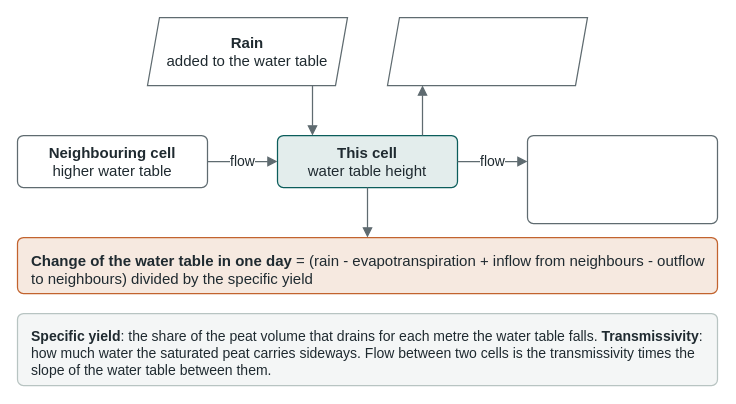
Image size: 736x404. Some labels were removed from this diagram. Here are the shapes that lost their labels. From the top down, the centre of each, then its label:
At point (487, 51): "Evapotranspiration removed from it".
At point (622, 179): "Neighbouring cell or canal lower water table; a canal level is held".
